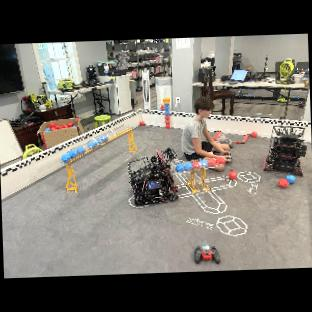Goal: (59, 124, 135, 165)
Low_goal: (181, 171, 217, 204)
Med_goal: (178, 157, 229, 175)
Robot: (127, 144, 180, 209), (261, 126, 308, 177)
V5_BLUE: (286, 175, 296, 183), (44, 128, 50, 132)
V5_RED: (51, 122, 74, 132), (278, 177, 290, 189), (228, 169, 237, 181), (250, 129, 259, 140), (139, 120, 145, 128)
blueingoal: (60, 153, 70, 162), (175, 163, 185, 172), (87, 141, 96, 149), (184, 162, 192, 171), (76, 147, 86, 154), (68, 150, 77, 157), (100, 135, 109, 142), (94, 138, 101, 146), (200, 160, 208, 167)
blueinloader: (164, 111, 170, 115), (165, 106, 169, 111), (165, 103, 169, 106)
redingoal: (216, 155, 226, 166), (207, 158, 218, 167), (192, 161, 200, 169)
redloader: (164, 123, 171, 128), (164, 115, 170, 120), (165, 119, 171, 123)
